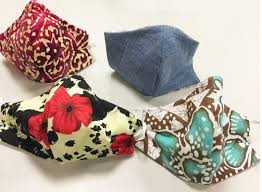cloth_mask: (101, 26, 211, 95)
